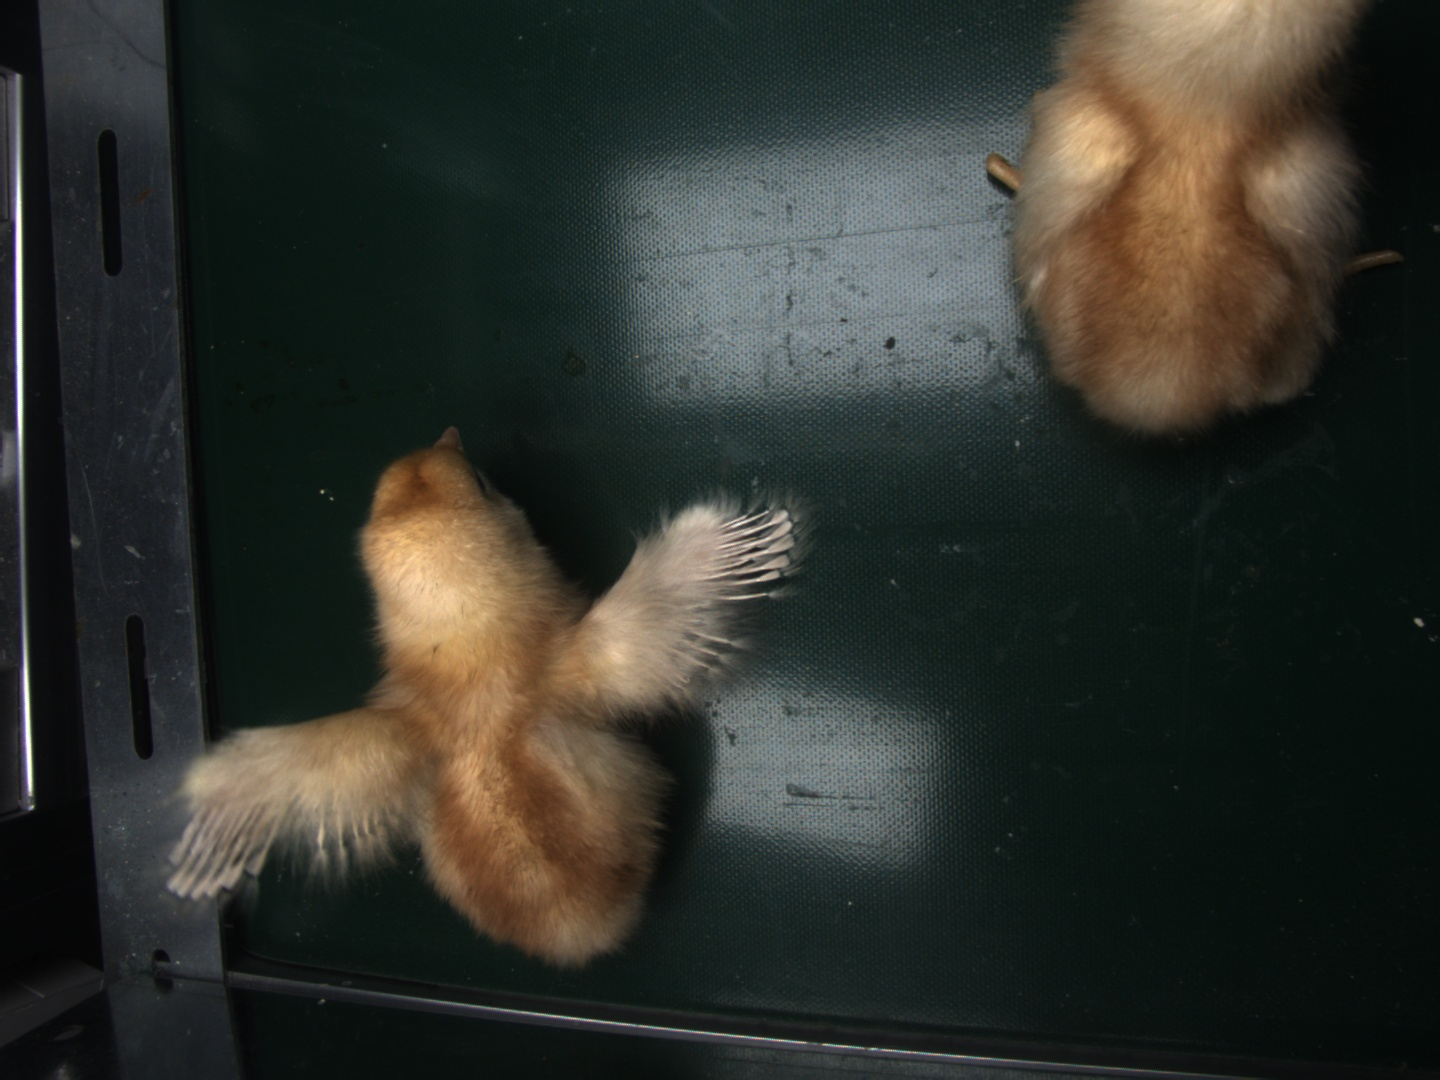female: (711, 504, 795, 594)
